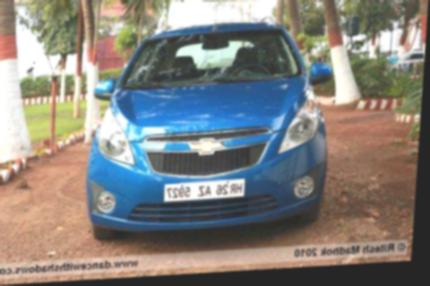License_Plate: (160, 170, 256, 214)
